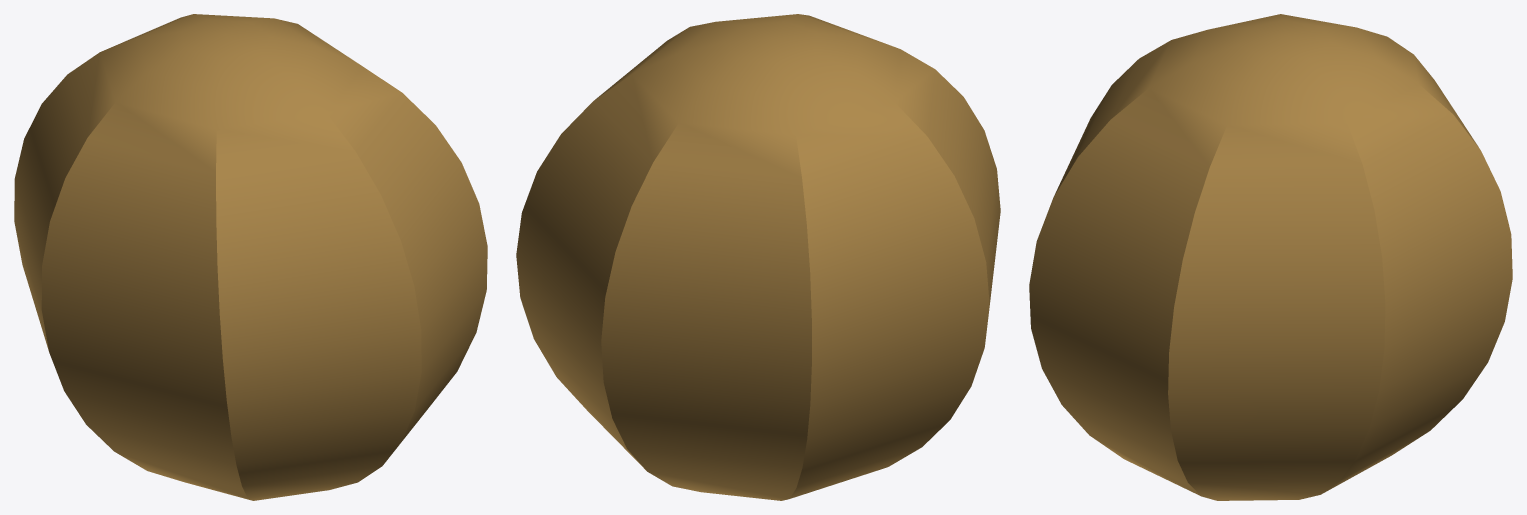
Rendered from cocos.fbx.
3 views of the same model, side by side, from view 1: azimuth 30°, elevation 25°; view 2: azimuth 150°, elevation 25°; view 3: azimuth 270°, elevation 25° (orthographic). The views are drawn at different scales.
Visible parts, largest first — view 1: Sphere.066; view 2: Sphere.066; view 3: Sphere.066.
Part boxes in pixels (bbox=[...]): Sphere.066: bbox=[14, 14, 487, 500]; Sphere.066: bbox=[516, 14, 1000, 500]; Sphere.066: bbox=[1029, 14, 1512, 500].
Bounding box in the file's own units: 30.05 × 31.45 × 31.65.
